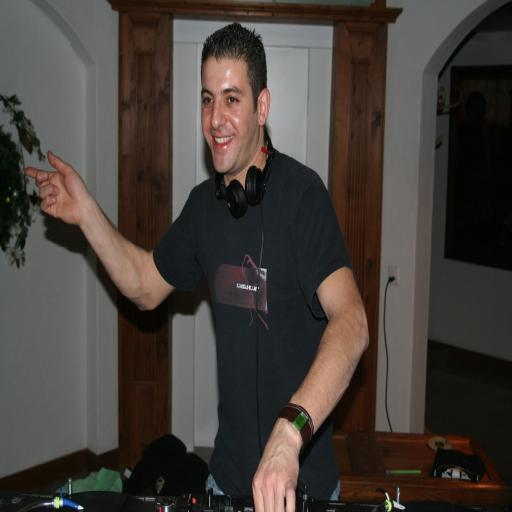Person: (4, 90, 390, 439)
no_gloves: (237, 347, 313, 431), (21, 182, 102, 259)
no_goggle: (187, 129, 259, 164)
no_helmet: (162, 100, 296, 226)
none: (154, 195, 356, 360)
